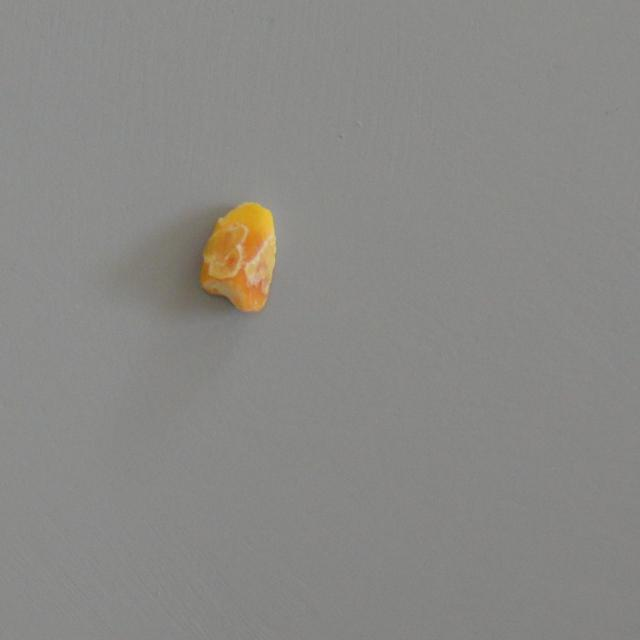pelicula: (195, 196, 283, 316)
